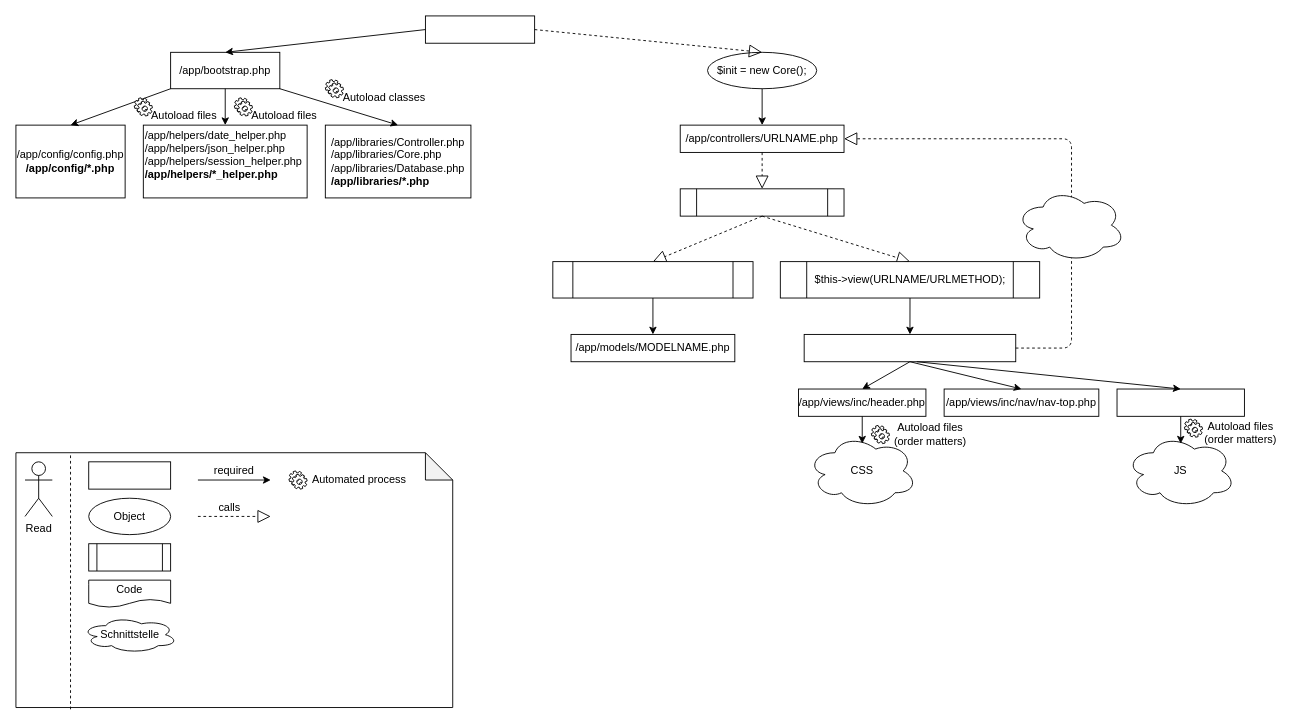
Some shapes in this 1298 by 726 pixel diagram are drawn without their labels. The centre of each missing label's shape, as x and y in pixels:
"$this->model(MODELNAME);" belongs at point 652,279.
"/app/views/inc/footer.php" belongs at point 1180,402.
"/app/views/URLNAME/URLMETHOD.php" belongs at point 909,348.
"/public/index.php" belongs at point 480,29.
"AJAX POST GET" belongs at point 1070,225.
"File name" belongs at point 129,475.
"Method" belongs at point 129,557.
"URLMETHOD()" belongs at point 761,202.
